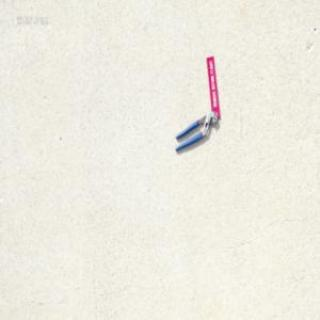LuggageTagtrack_idkeyframe: (206, 52, 220, 117)
Pliertrack_idkeyframe: (173, 110, 217, 150)
